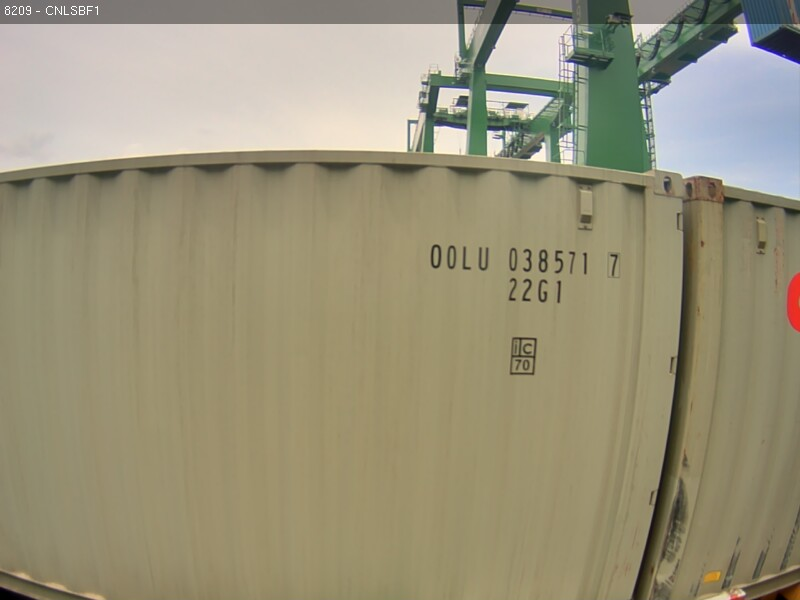container_no_door: (186, 140, 692, 585)
